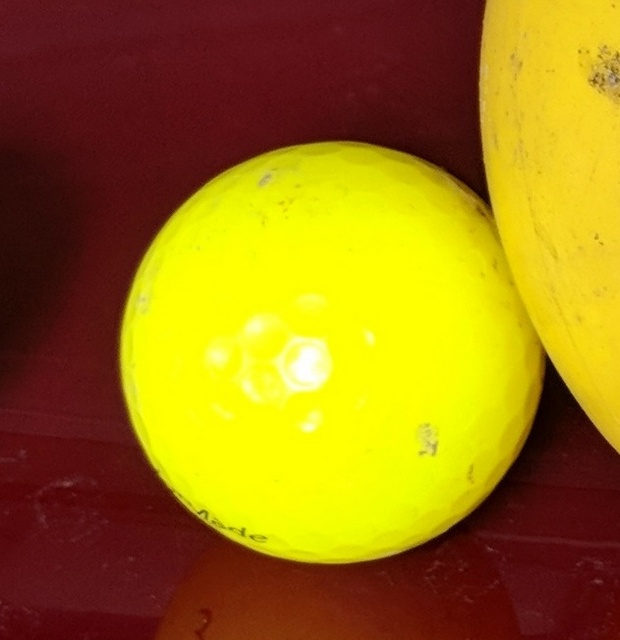ball: (122, 142, 543, 567)
